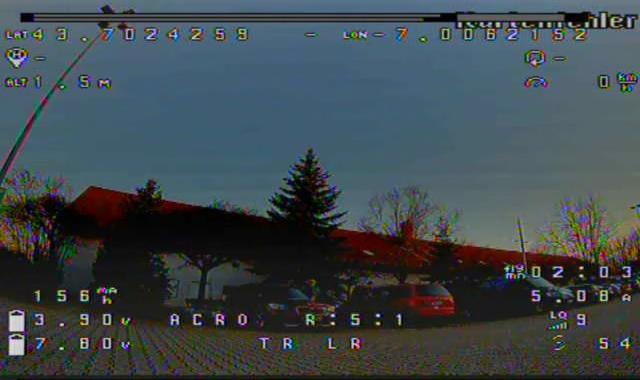car: (356, 276, 470, 335)
